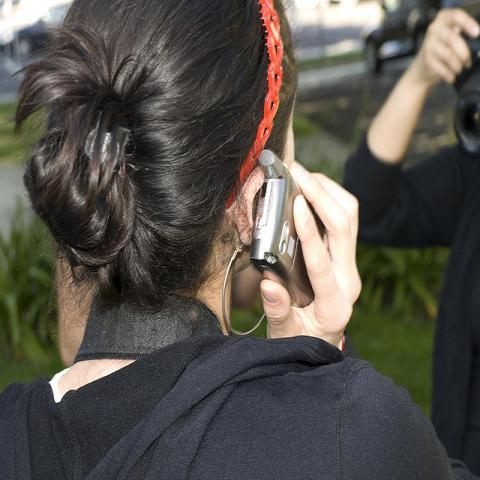car: (364, 2, 440, 77), (18, 1, 75, 63)
